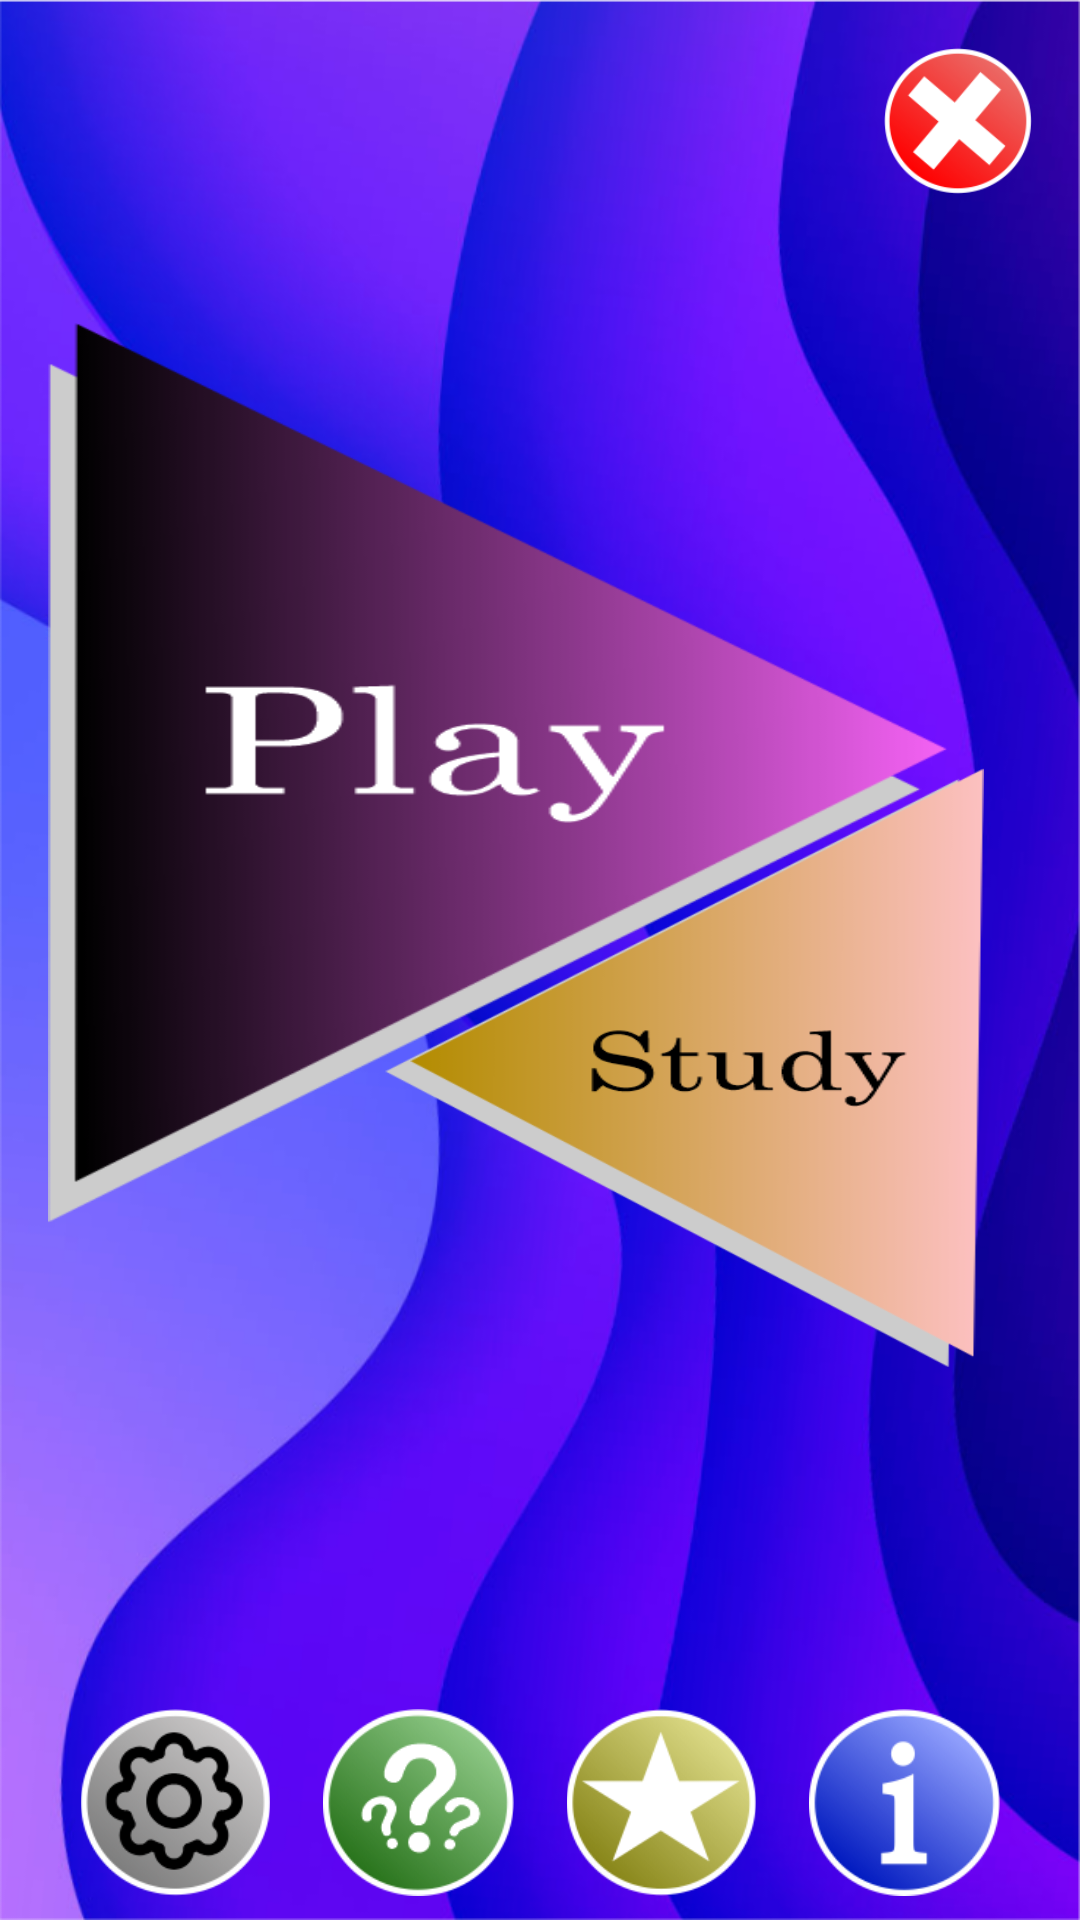

Icons on this 1080*1920 Android screen, each with the point to tap as (x,y):
aturan: (418,1802)
close: (958,121)
info: (904,1802)
setting: (175,1802)
skor: (661,1802)
